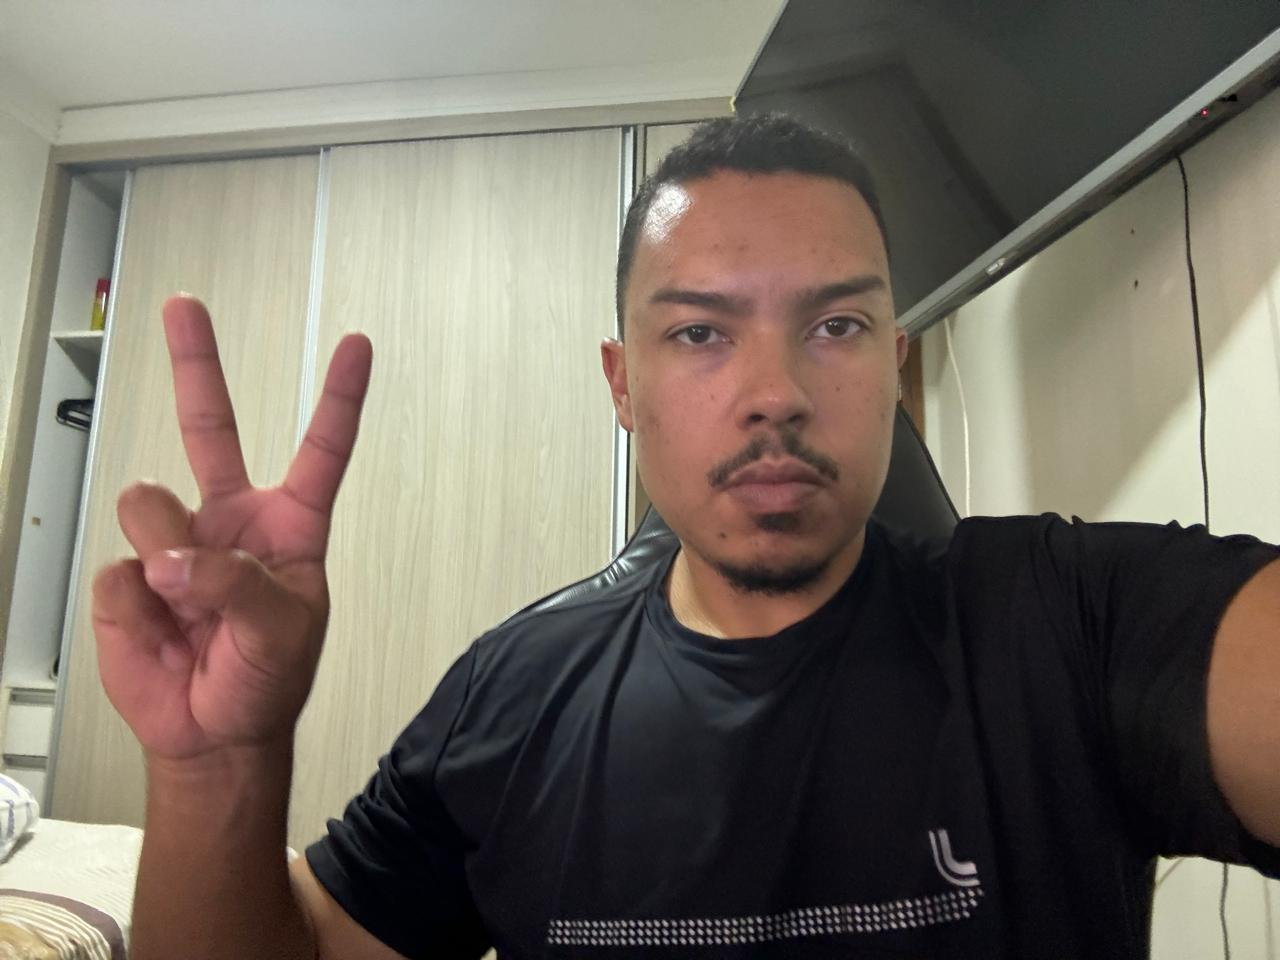v: (90, 291, 379, 760)
